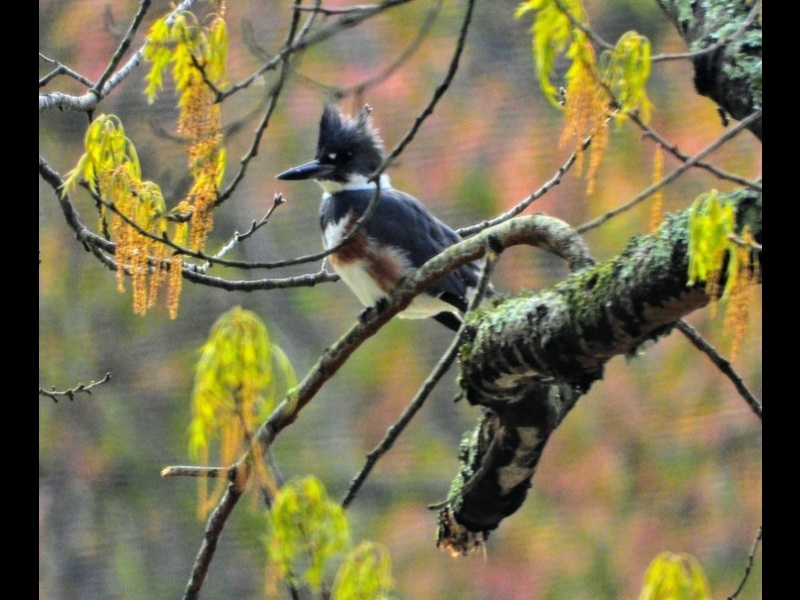kingfisher: (274, 96, 495, 332)
